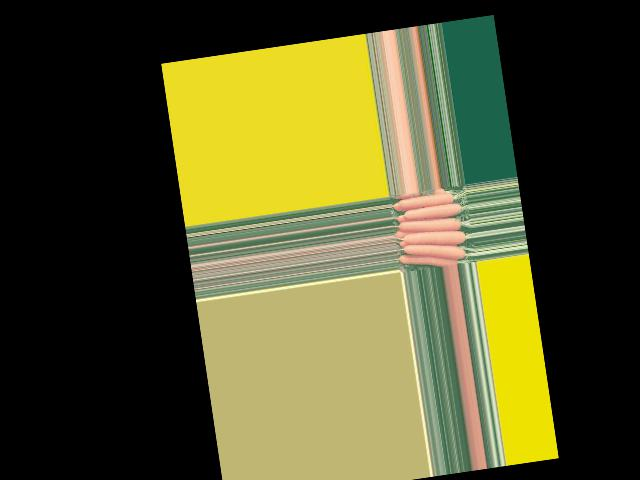carrot: (399, 246, 460, 273)
